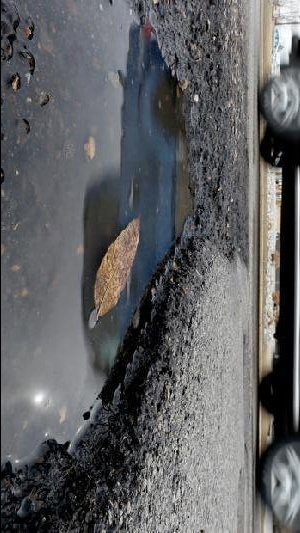pothole: (0, 0, 251, 530)
